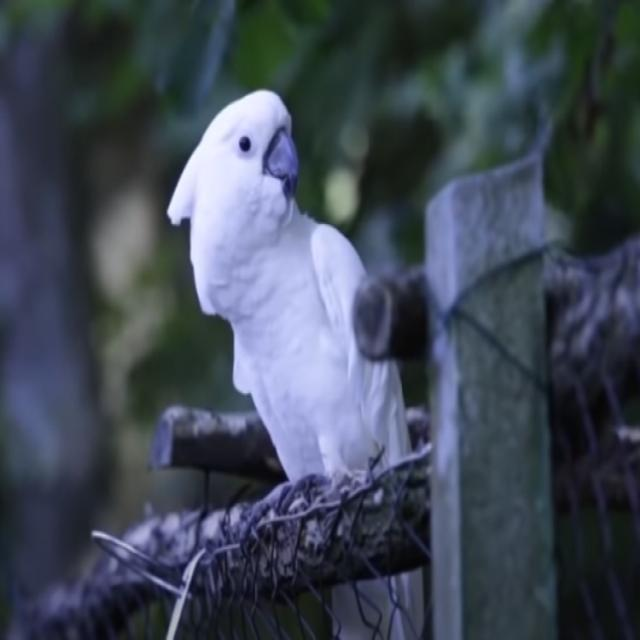Kakatua Putih: (148, 64, 441, 640)
